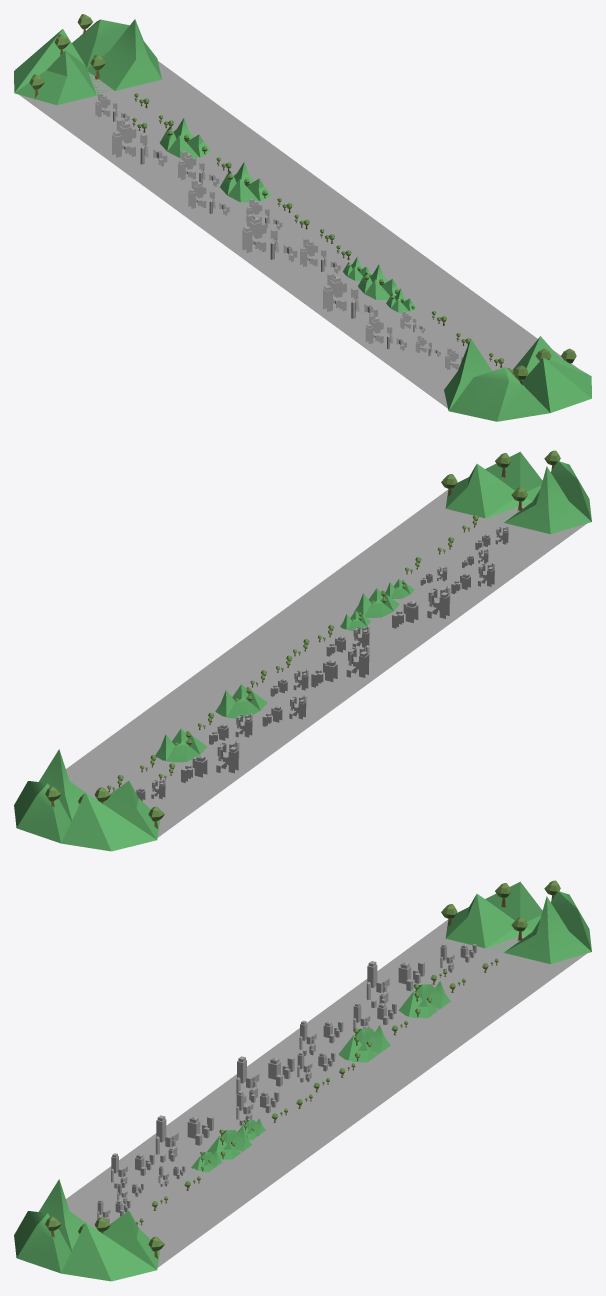
Rendered from Stage.fbx.
The picture shows the model from 3 angles, top to bottom: view 1: azimuth 30°, elevation 25°; view 2: azimuth 150°, elevation 25°; view 3: azimuth 330°, elevation 25°; orthographic projection.
Visible parts, largest first — view 1: Ground_geo, Mountain_geo_7, Mountain_geo_6, Mountain_geo_3, Buildings_geo_1, Buildings_geo_11, Mountain_geo_4, Buildings_geo_10, Mountain_geo_2, Buildings_geo_12, Buildings_geo_13, Buildings_geo_7 (+1 smaller); view 2: Ground_geo, Mountain_geo_7, Mountain_geo_6, Mountain_geo_4, Buildings_geo_11, Buildings_geo_10, Mountain_geo_3, Buildings_geo_1, Mountain_geo_2, Buildings_geo_7, Buildings_geo_12, Buildings_geo_13 (+1 smaller); view 3: Ground_geo, Mountain_geo_6, Mountain_geo_7, Mountain_geo_3, Mountain_geo_4, Buildings_geo_10, Buildings_geo_11, Buildings_geo_1, Mountain_geo_2, Buildings_geo_12, Buildings_geo_13, Buildings_geo_2 (+2 smaller).
Part boxes in pixels (<box>): Ground_geo: <box>19,61,576,408</box>; Mountain_geo_7: <box>14,14,161,105</box>; Mountain_geo_6: <box>444,336,591,421</box>; Mountain_geo_3: <box>220,162,270,202</box>; Buildings_geo_1: <box>242,214,297,261</box>; Buildings_geo_11: <box>112,118,167,166</box>; Mountain_geo_4: <box>160,118,210,158</box>; Buildings_geo_10: <box>323,273,377,318</box>; Mountain_geo_2: <box>358,264,402,299</box>; Buildings_geo_12: <box>188,179,229,215</box>; Buildings_geo_13: <box>365,315,406,350</box>; Buildings_geo_7: <box>178,151,219,186</box>; Ground_geo: <box>66,489,586,837</box>; Mountain_geo_7: <box>14,749,164,851</box>; Mountain_geo_6: <box>441,450,591,534</box>; Mountain_geo_4: <box>155,728,207,762</box>; Buildings_geo_11: <box>181,740,239,782</box>; Buildings_geo_10: <box>392,586,450,628</box>; Mountain_geo_3: <box>215,684,267,718</box>; Buildings_geo_1: <box>311,645,369,687</box>; Mountain_geo_2: <box>354,588,399,617</box>; Buildings_geo_7: <box>209,713,252,744</box>; Buildings_geo_12: <box>262,695,306,726</box>; Buildings_geo_13: <box>451,562,494,594</box>; Ground_geo: <box>66,919,586,1267</box>; Mountain_geo_6: <box>14,1179,164,1281</box>; Mountain_geo_7: <box>441,880,591,964</box>; Mountain_geo_3: <box>338,1025,390,1062</box>; Mountain_geo_4: <box>398,981,450,1018</box>; Buildings_geo_10: <box>155,1115,213,1162</box>; Buildings_geo_11: <box>366,961,424,1007</box>; Buildings_geo_1: <box>236,1056,294,1103</box>; Mountain_geo_2: <box>207,1127,251,1159</box>; Buildings_geo_12: <box>299,1020,343,1055</box>; Buildings_geo_13: <box>111,1153,154,1188</box>; Buildings_geo_2: <box>236,1091,279,1125</box>.
Size of the model in its own units: 10283 by 3858 by 60885.
